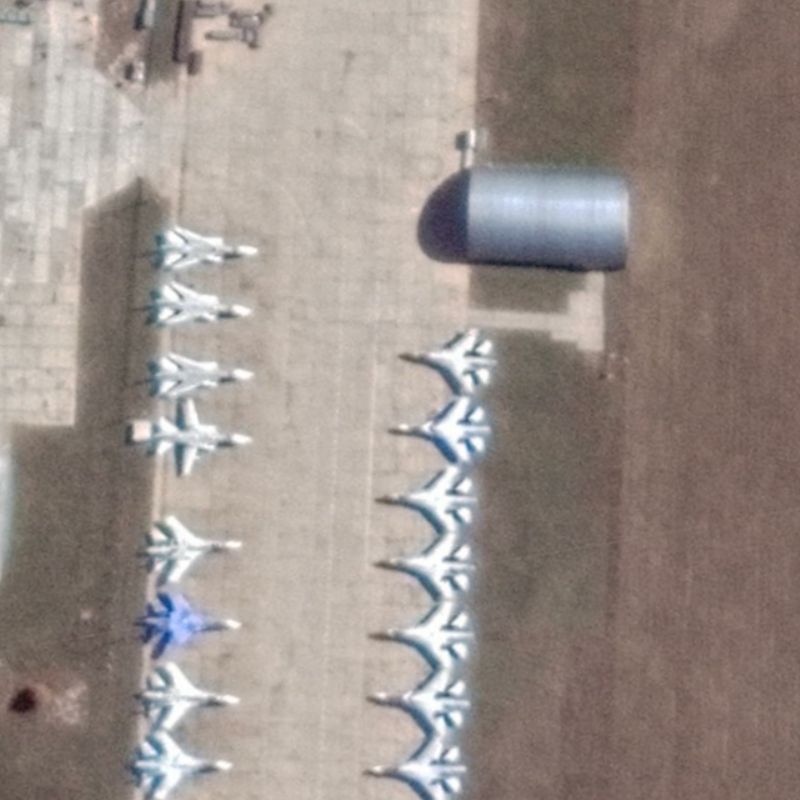A1: (131, 729, 239, 800), (142, 586, 244, 661), (139, 660, 241, 732), (143, 513, 245, 584), (377, 599, 476, 669), (395, 395, 493, 464), (371, 671, 471, 738), (404, 325, 499, 395), (366, 738, 470, 800), (385, 464, 479, 532), (383, 532, 476, 598)
A20: (152, 396, 255, 478), (153, 350, 256, 398), (154, 279, 254, 327), (159, 224, 261, 271)
